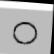no answer: (11, 19, 40, 47)
